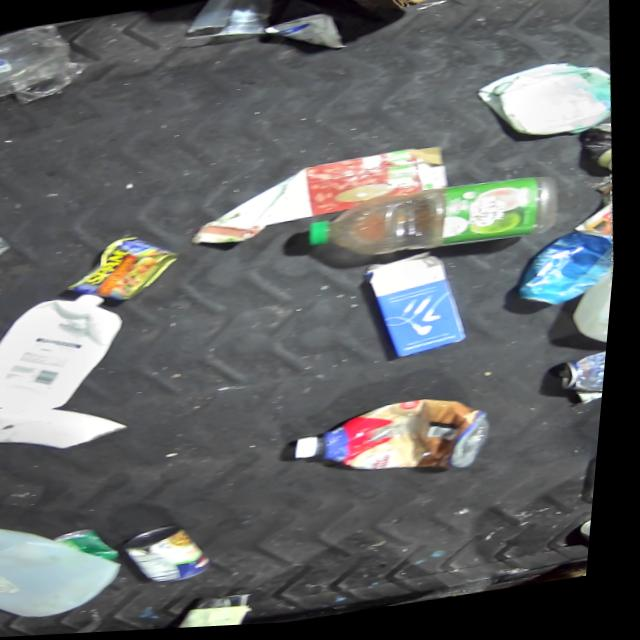can: (62, 230, 189, 312), (514, 230, 622, 318), (126, 521, 227, 592), (61, 525, 131, 570), (562, 355, 613, 407), (580, 128, 619, 185), (587, 519, 602, 548)
milk_jug: (0, 288, 139, 424), (0, 502, 139, 628), (474, 60, 619, 155), (569, 259, 620, 359)
non_white_jug: (361, 253, 479, 367)
plastic_bottle: (304, 174, 567, 274)
